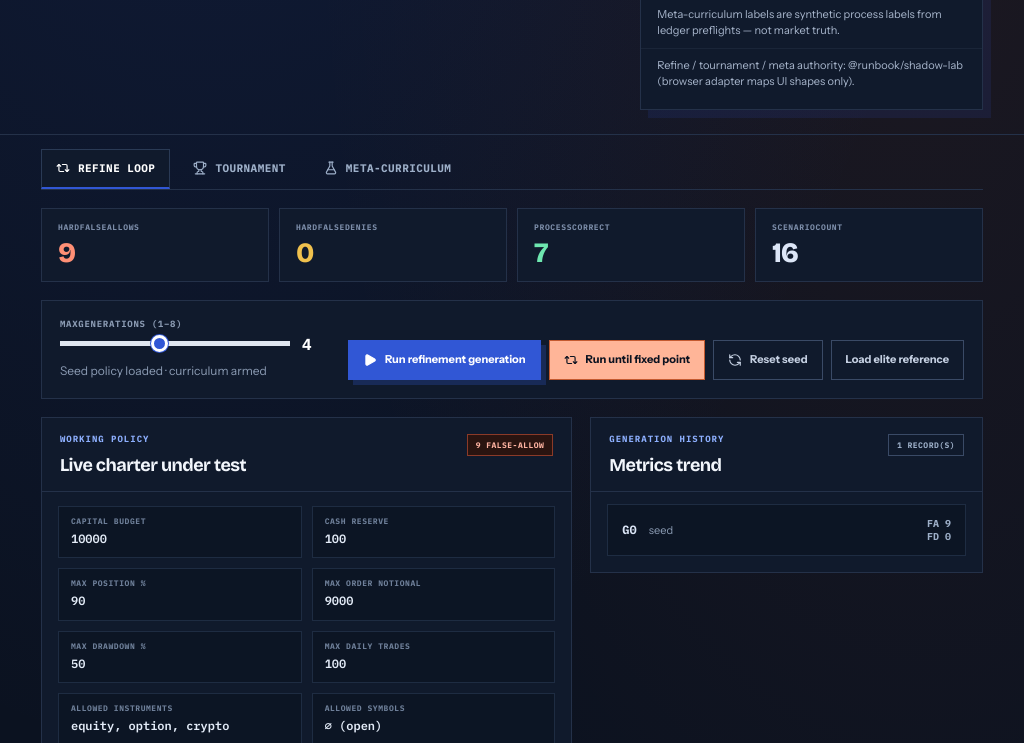
Test: Shadow Process Lab › loads elite reference as curriculum-clean
(page scrolled)
Click the button "Load elite reference". click: [897, 360]
box: [831,340,964,380]
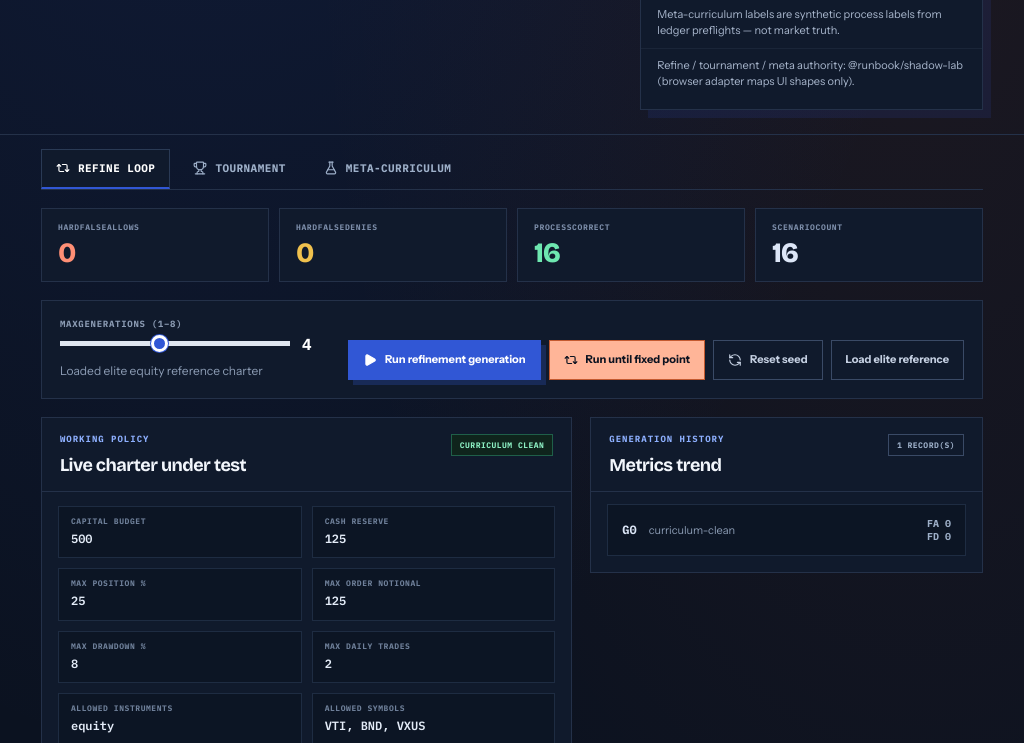
Expected: the element named "Hard false allows" shows "0", [58,236,75,270]
Expected: the element named "Process correct scenarios" reads "processCorrect 16", [534,236,560,270]
